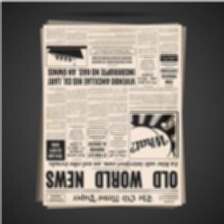news_paper: (37, 19, 187, 211)
